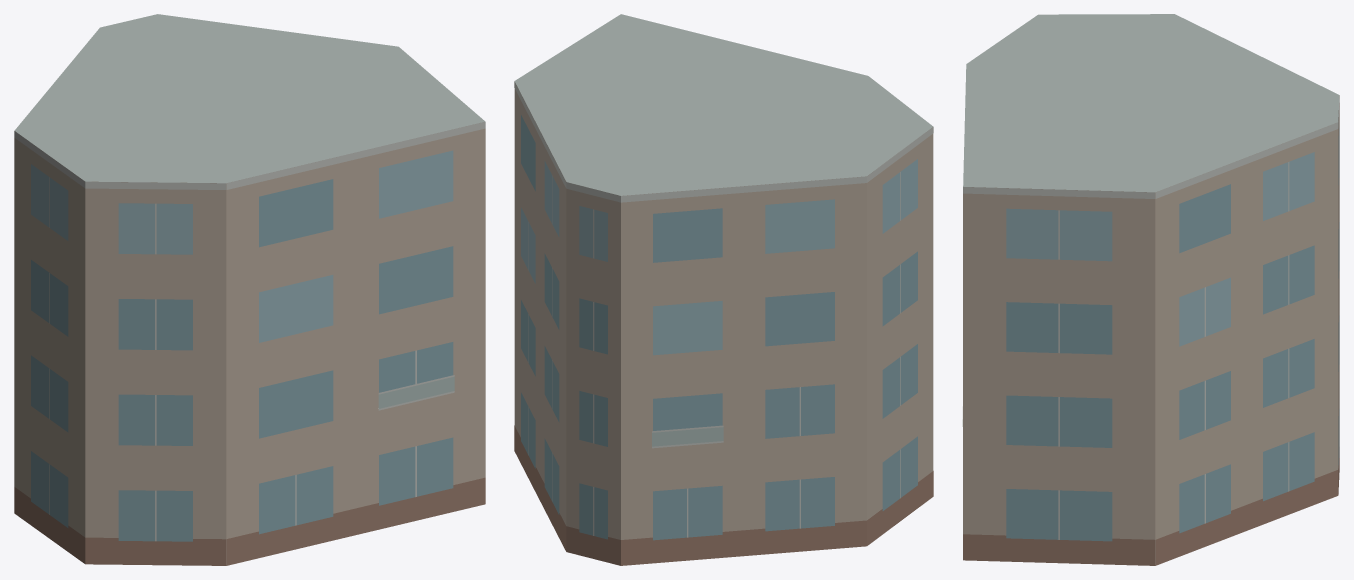
File: survey-upis-32621604.glb
3 renders of one model, left to right at view 1: azimuth 30°, elevation 25°; view 2: azimuth 150°, elevation 25°; view 3: azimuth 270°, elevation 25°, orthographic. The views are drawn at different scales.
Visible parts, largest first — view 1: survey-upis-32621604.tmp; view 2: survey-upis-32621604.tmp; view 3: survey-upis-32621604.tmp.
Boxes of the visible parts, x1,y1,x2,y2 form: survey-upis-32621604.tmp: (14, 14, 485, 565); survey-upis-32621604.tmp: (514, 14, 933, 565); survey-upis-32621604.tmp: (962, 14, 1339, 565).
Size of the model in its own units: 13.83 by 13.5 by 12.36.
